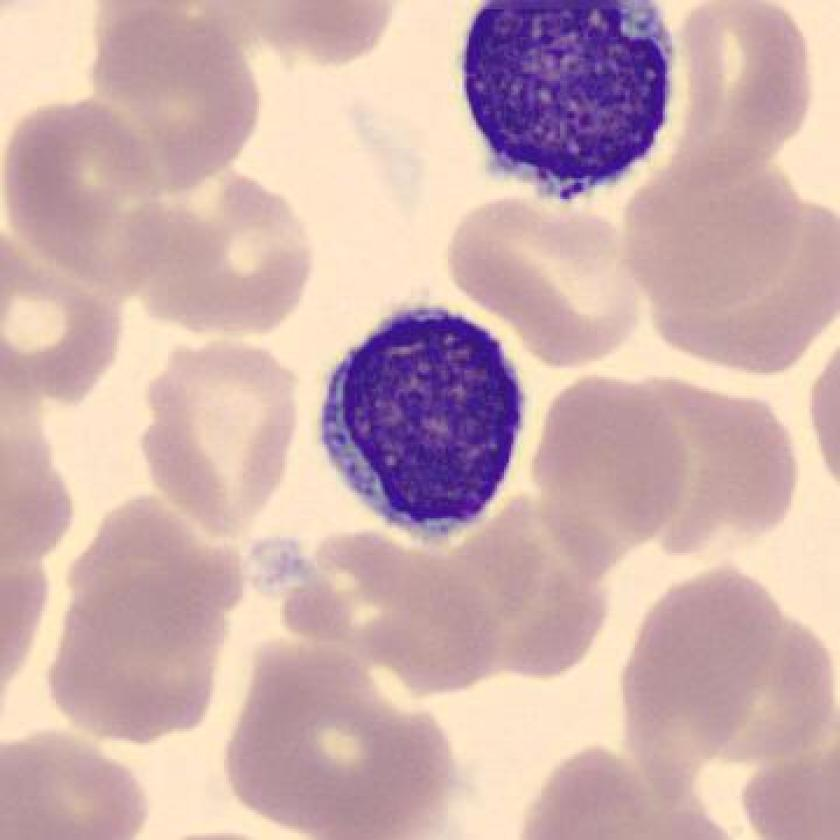lymphocyte: (309, 293, 549, 561), (456, 1, 682, 203)
